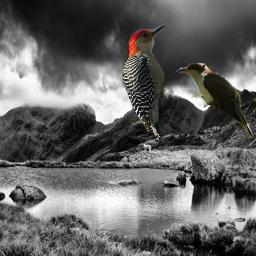Cuckoo: (176, 63, 253, 139)
Woodpecker: (121, 24, 174, 142)
